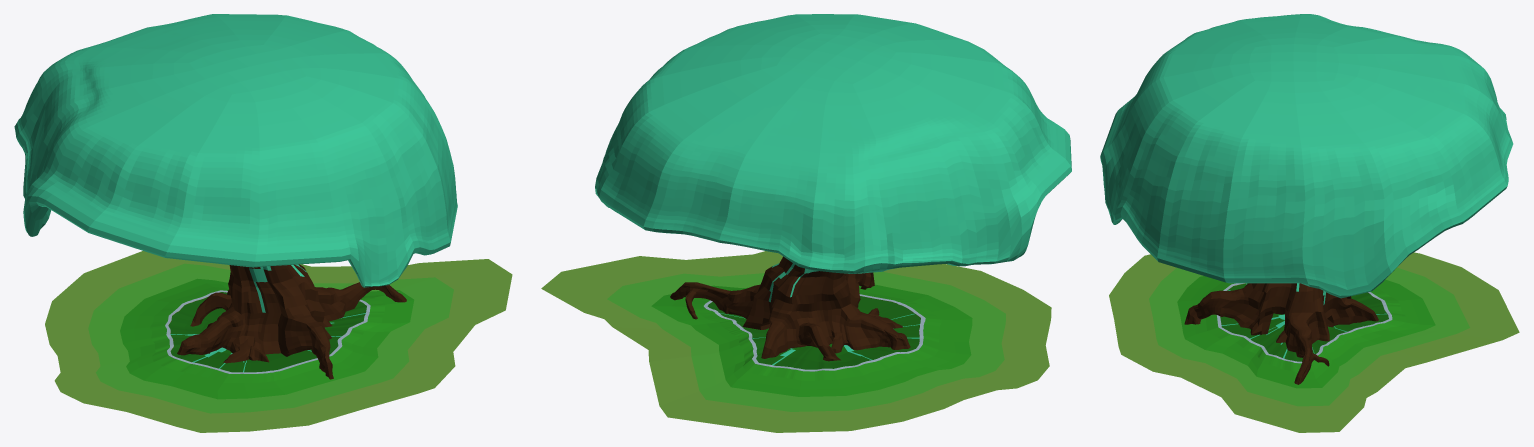
Rendered from VeksttreRough4.fbx.
3 views of the same model, side by side, from view 1: azimuth 30°, elevation 25°; view 2: azimuth 150°, elevation 25°; view 3: azimuth 270°, elevation 25° (orthographic). The views are drawn at different scales.
Parts seen in each view (by area): view 1: Leafs, Plane, Tree; view 2: Leafs, Plane, Tree; view 3: Leafs, Plane, Tree.
Boxes of the visible parts, x1=… form: Leafs: x1=14, y1=14, x2=457, y2=287; Plane: x1=45, y1=251, x2=512, y2=432; Tree: x1=177, y1=264, x2=406, y2=379; Leafs: x1=595, y1=14, x2=1071, y2=273; Plane: x1=541, y1=251, x2=1051, y2=432; Tree: x1=670, y1=256, x2=910, y2=361; Leafs: x1=1100, y1=14, x2=1513, y2=298; Plane: x1=1109, y1=252, x2=1519, y2=432; Tree: x1=1184, y1=283, x2=1378, y2=384.
Bounding box in the file's own units: 85827 × 48387 × 71534.
